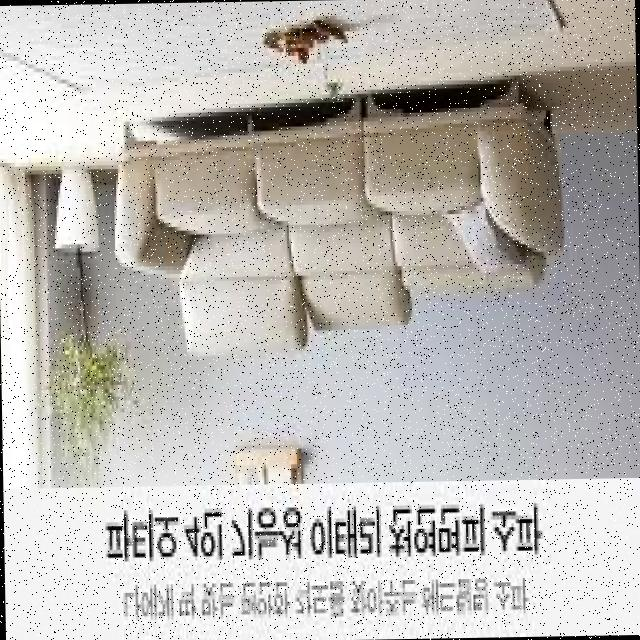Sofa: (101, 48, 581, 410)
